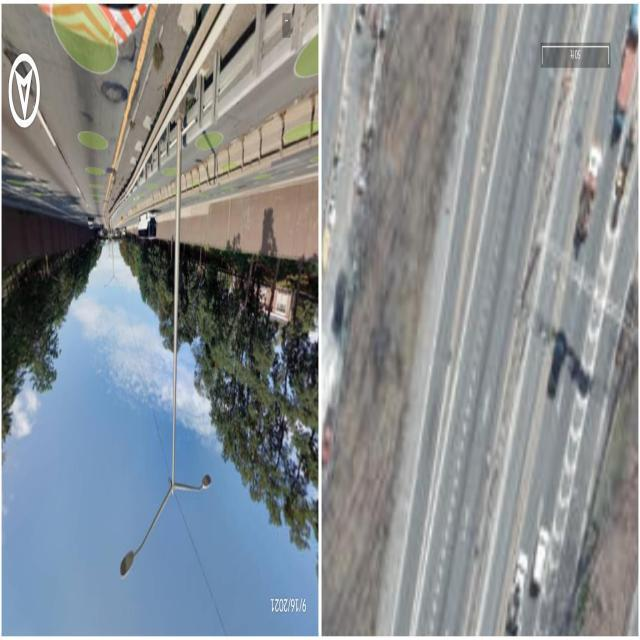off: (92, 463, 246, 578)
